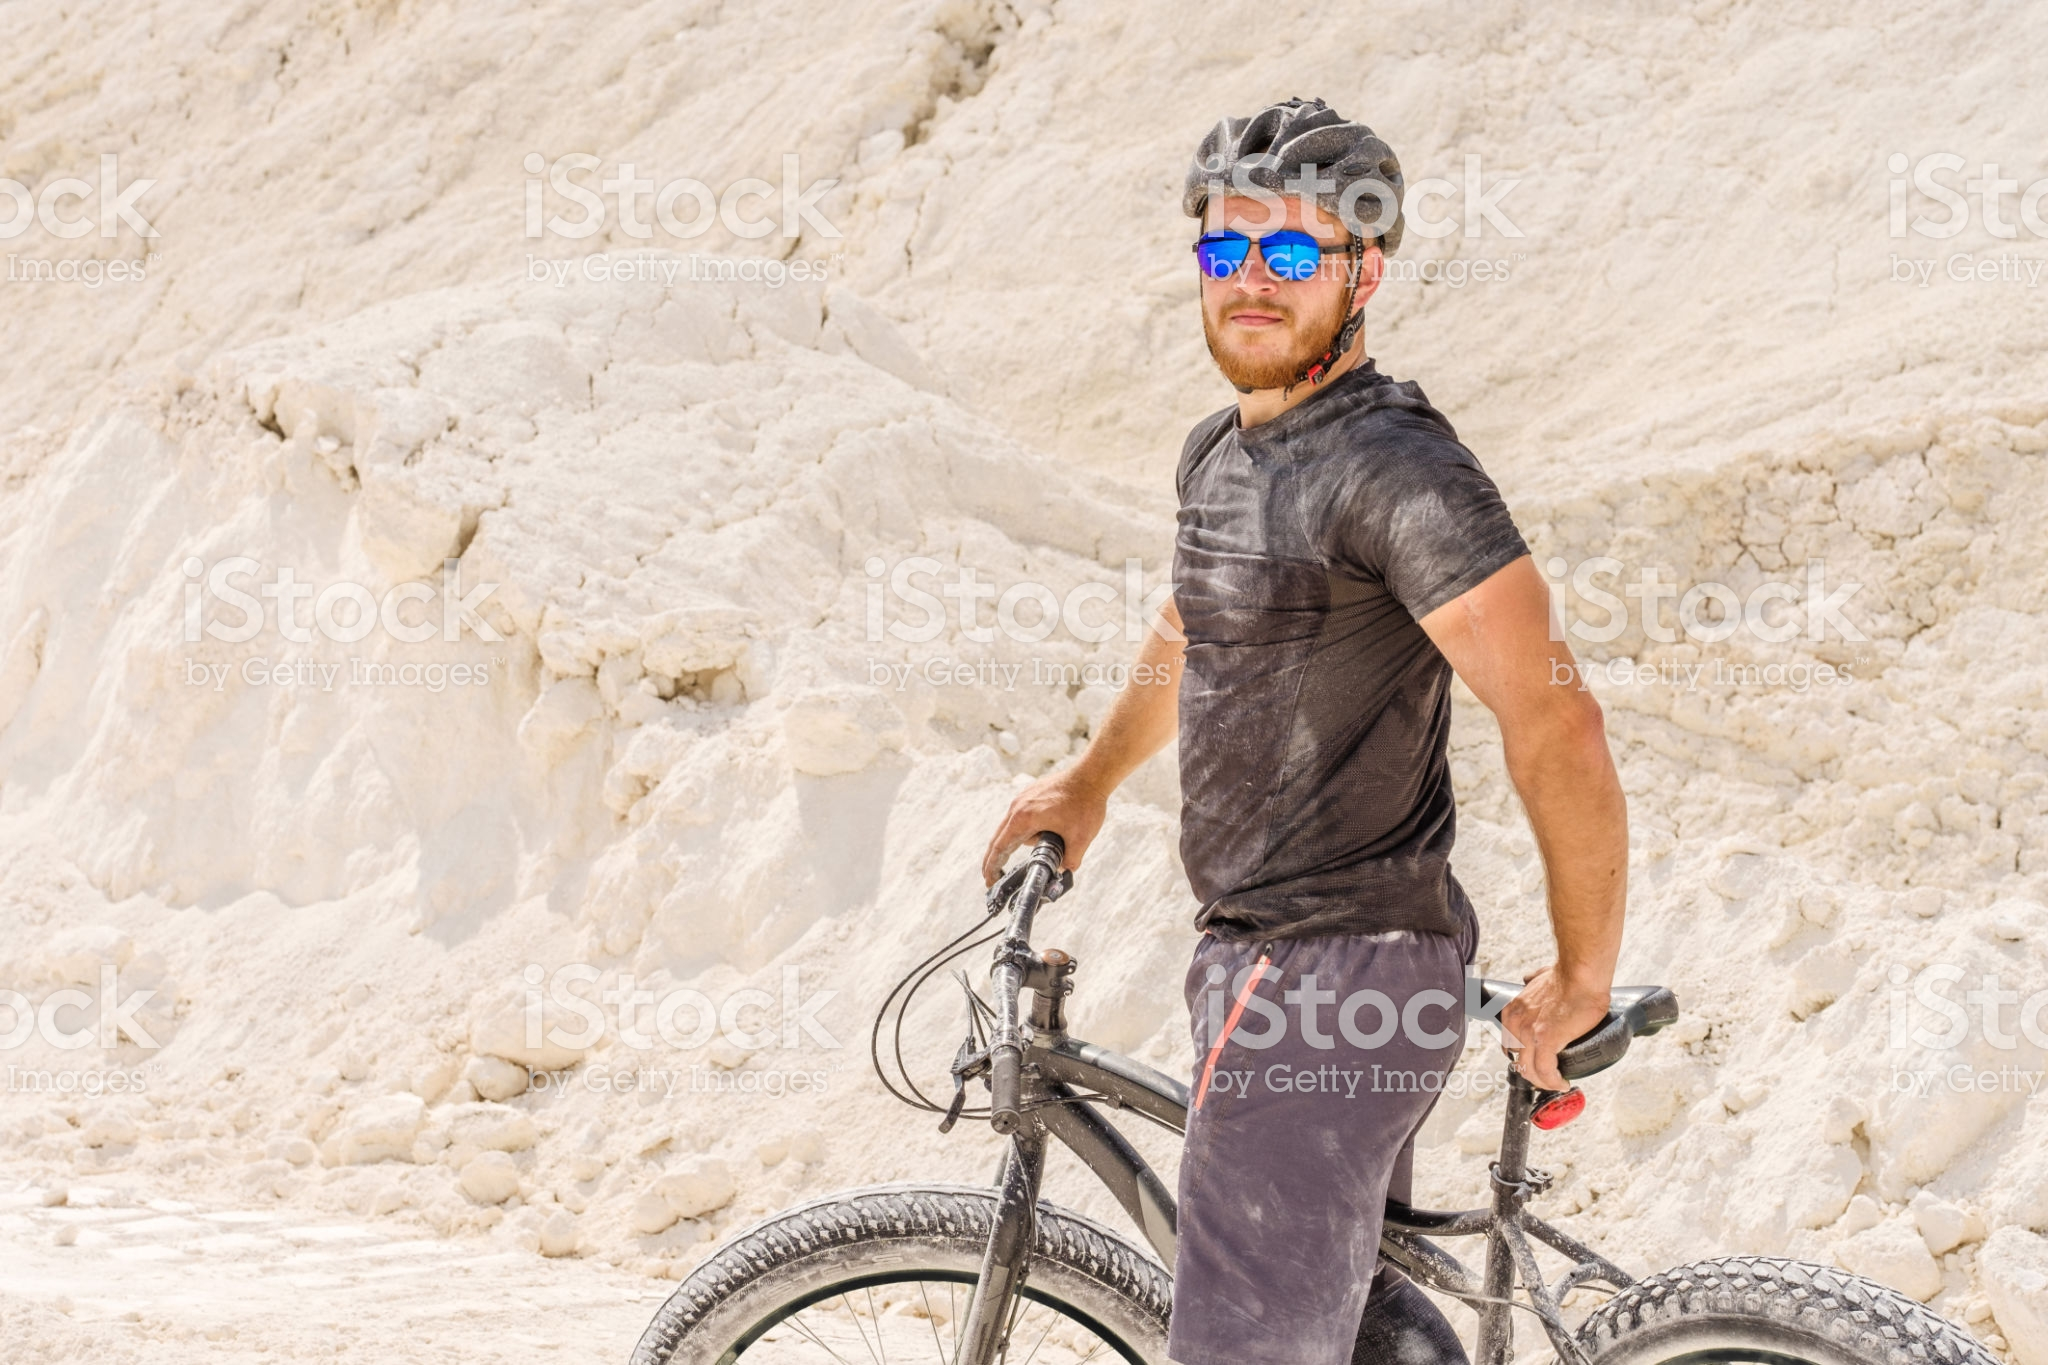helmet: (1214, 91, 1427, 241)
